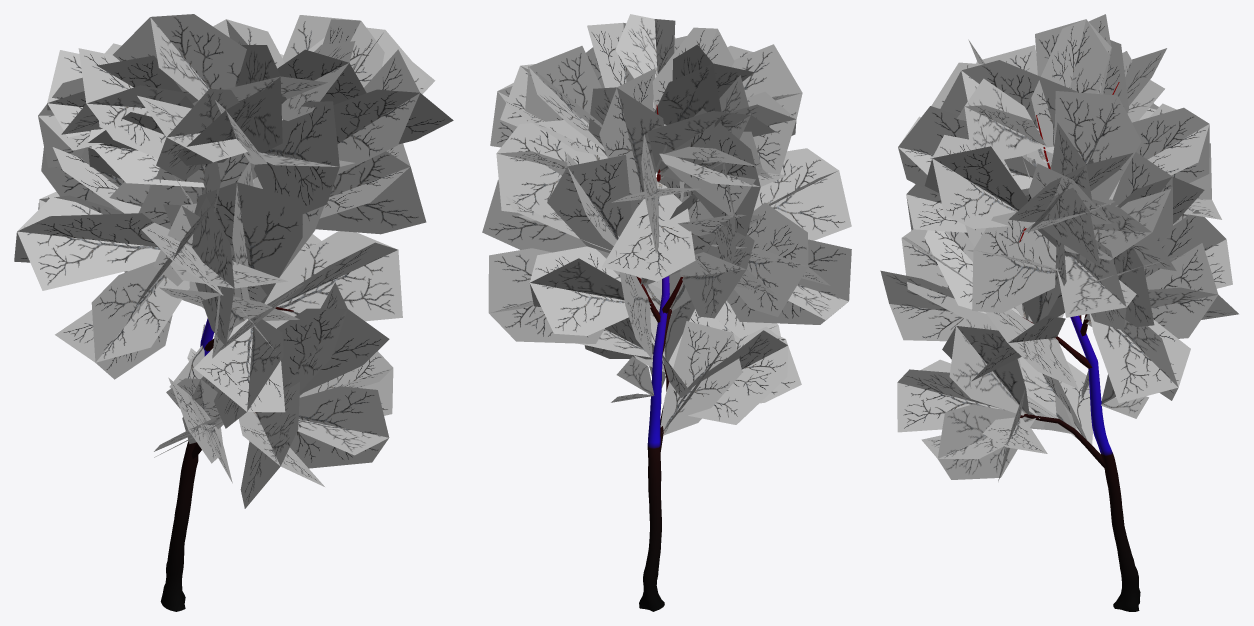
The model's file is Tree_C_03.FBX.
The picture shows the model from 3 angles, left to right: view 1: azimuth 30°, elevation 25°; view 2: azimuth 150°, elevation 25°; view 3: azimuth 270°, elevation 25°; orthographic projection. The views are drawn at different scales.
Visible parts, largest first — view 1: Tree_C_03_LOD0; view 2: Tree_C_03_LOD0; view 3: Tree_C_03_LOD0.
Boxes of the visible parts, bbox=[...] form: Tree_C_03_LOD0: bbox=[14, 14, 453, 611]; Tree_C_03_LOD0: bbox=[482, 14, 851, 611]; Tree_C_03_LOD0: bbox=[880, 14, 1238, 611].
Size of what is drawn, in the model's own units: 972 by 1527 by 870.
